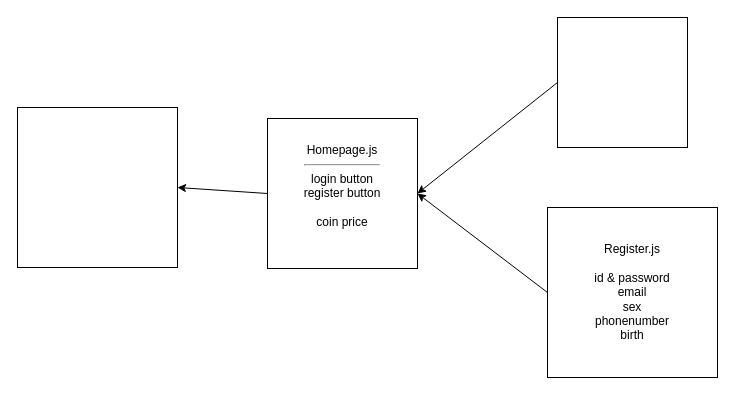
The diagram is 735 pixels wide and 395 high, and some of its shapes have lost their labels. Each missing label, with the centre of its shape:
"App.js" belongs at [97,187].
"Login.js id & password find id & password" belongs at [622,82].
